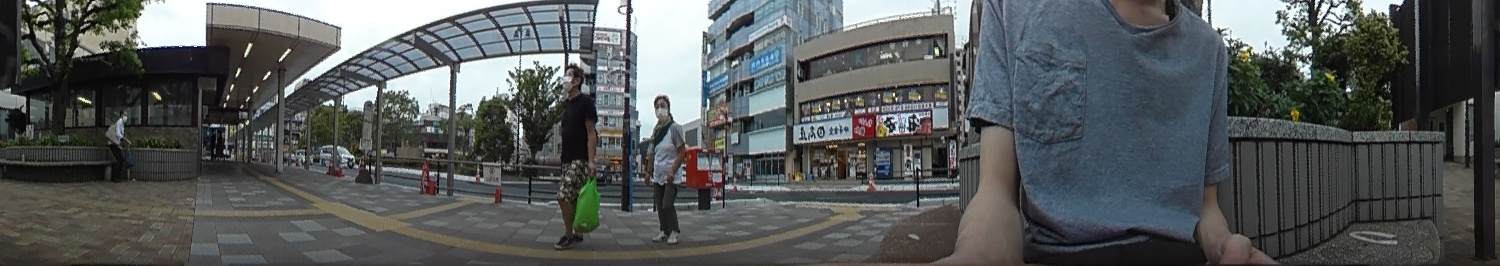person: (552, 62, 599, 244), (642, 93, 688, 240), (107, 108, 136, 178)
